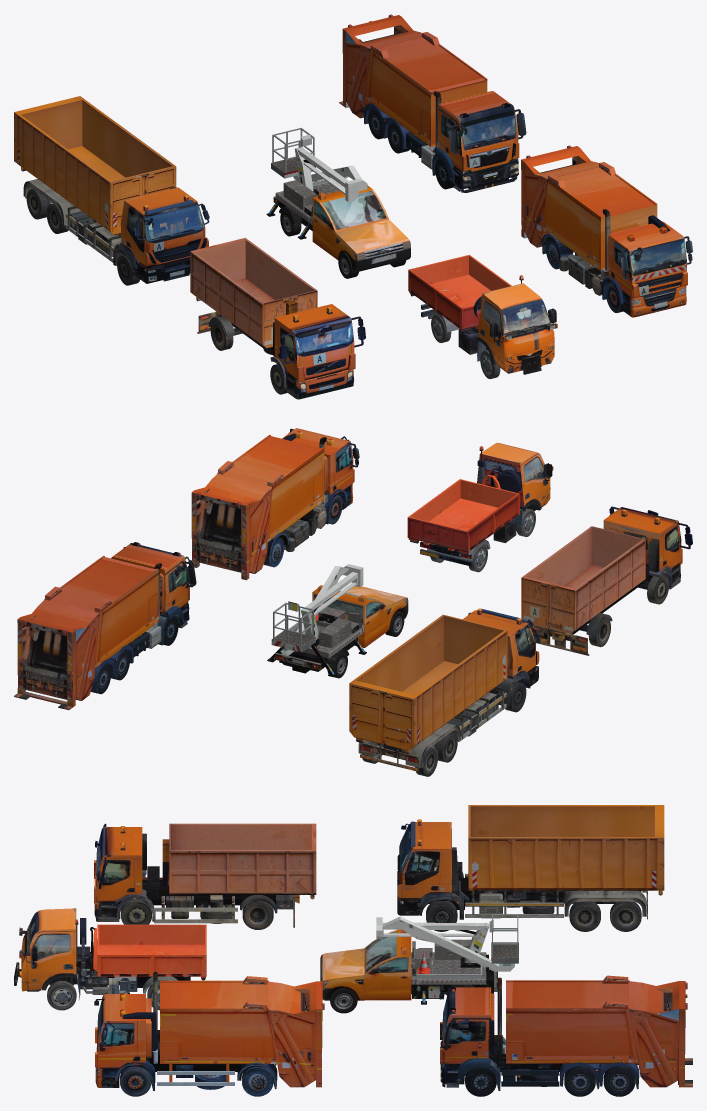
Rendered from maintenance_vehicles.glb.
The picture shows the model from 3 angles, top to bottom: view 1: azimuth 30°, elevation 25°; view 2: azimuth 150°, elevation 25°; view 3: azimuth 270°, elevation 25°; orthographic projection. The views are drawn at different scales.
Visible parts, largest first — view 1: Object_7, Object_8, Object_5, Object_3, Object_2, Object_6; view 2: Object_7, Object_8, Object_5, Object_3, Object_2, Object_6; view 3: Object_7, Object_8, Object_5, Object_3, Object_2, Object_6.
Part boxes in pixels (x1,y1,x2,y2): Object_7: (14,96,209,285); Object_8: (339,14,526,192); Object_5: (521,145,692,317); Object_3: (190,238,365,399); Object_2: (408,255,557,378); Object_6: (266,127,410,278); Object_7: (349,608,540,776); Object_8: (14,542,196,710); Object_5: (191,428,359,580); Object_3: (521,506,692,655); Object_2: (407,442,553,572); Object_6: (267,564,408,678); Object_7: (397,805,664,931); Object_8: (439,975,692,1096); Object_5: (94,972,324,1096); Object_3: (94,823,316,929); Object_2: (14,908,206,1010); Object_6: (320,914,518,1013).
Size of the model in its own units: 12.39 by 2.73 by 17.27.
6 materials, 6 textured.
